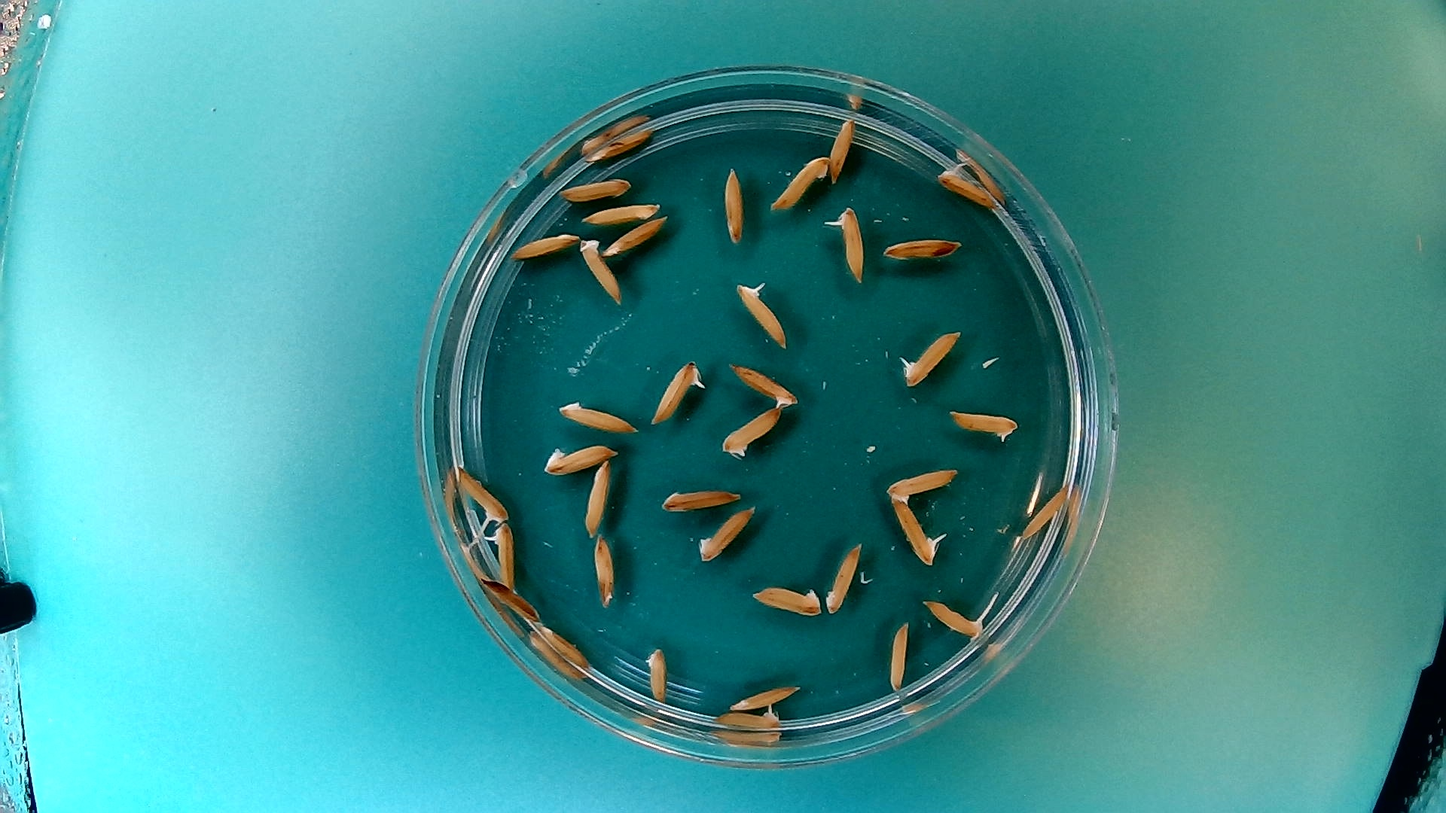no: (768, 152, 831, 213), (693, 503, 758, 562), (718, 404, 783, 459), (555, 395, 641, 434), (883, 463, 961, 506), (597, 213, 669, 259), (1018, 479, 1072, 540), (823, 537, 864, 615), (582, 123, 654, 166), (657, 481, 744, 516), (748, 580, 824, 617), (480, 579, 542, 624), (541, 443, 621, 477), (581, 455, 613, 539), (535, 623, 591, 671), (880, 232, 963, 264), (506, 227, 579, 263), (724, 680, 803, 712), (581, 198, 664, 227), (719, 161, 747, 246), (825, 114, 859, 183), (556, 177, 635, 204), (590, 532, 617, 608), (886, 617, 913, 693), (640, 643, 673, 703)
yes: (726, 360, 808, 421), (735, 275, 792, 350), (897, 325, 964, 388), (649, 354, 706, 428), (889, 495, 947, 567), (822, 201, 867, 287), (445, 465, 511, 523), (577, 231, 624, 306), (934, 161, 999, 209), (944, 404, 1021, 444), (478, 519, 518, 593), (922, 595, 990, 638), (712, 703, 789, 733)
